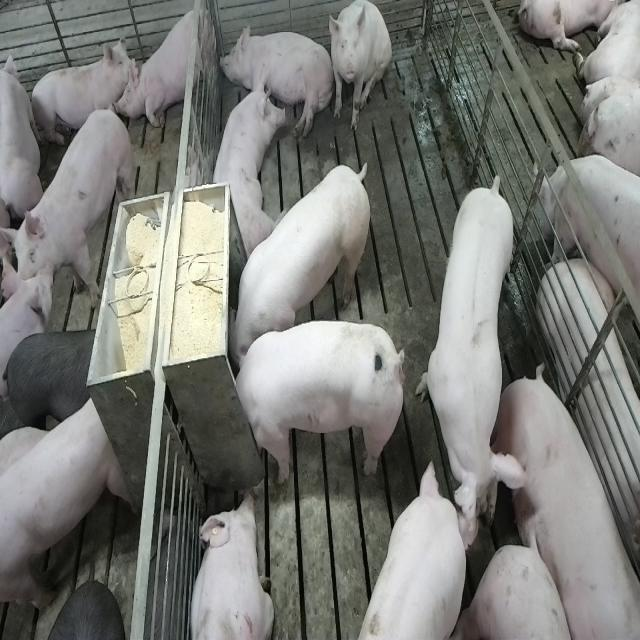Feeding: (228, 160, 376, 367), (232, 318, 409, 484)
Lateral_lying: (481, 369, 636, 640), (218, 22, 334, 140)
Sitting: (125, 0, 216, 132), (328, 2, 392, 134)
Standing: (421, 172, 523, 558), (1, 393, 130, 627), (7, 100, 132, 320), (361, 461, 482, 640), (540, 157, 640, 346), (2, 324, 96, 442)
Sternal_lying: (207, 68, 284, 258), (186, 490, 274, 640), (30, 38, 134, 150)
